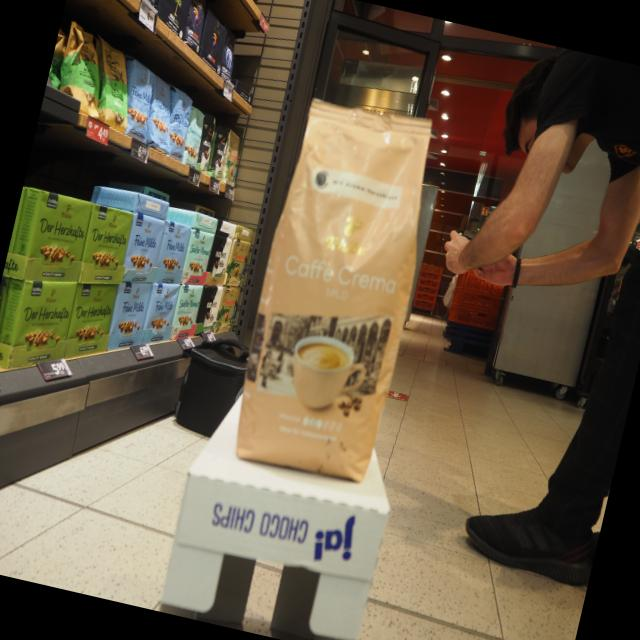CC Mild: (219, 87, 454, 494)
